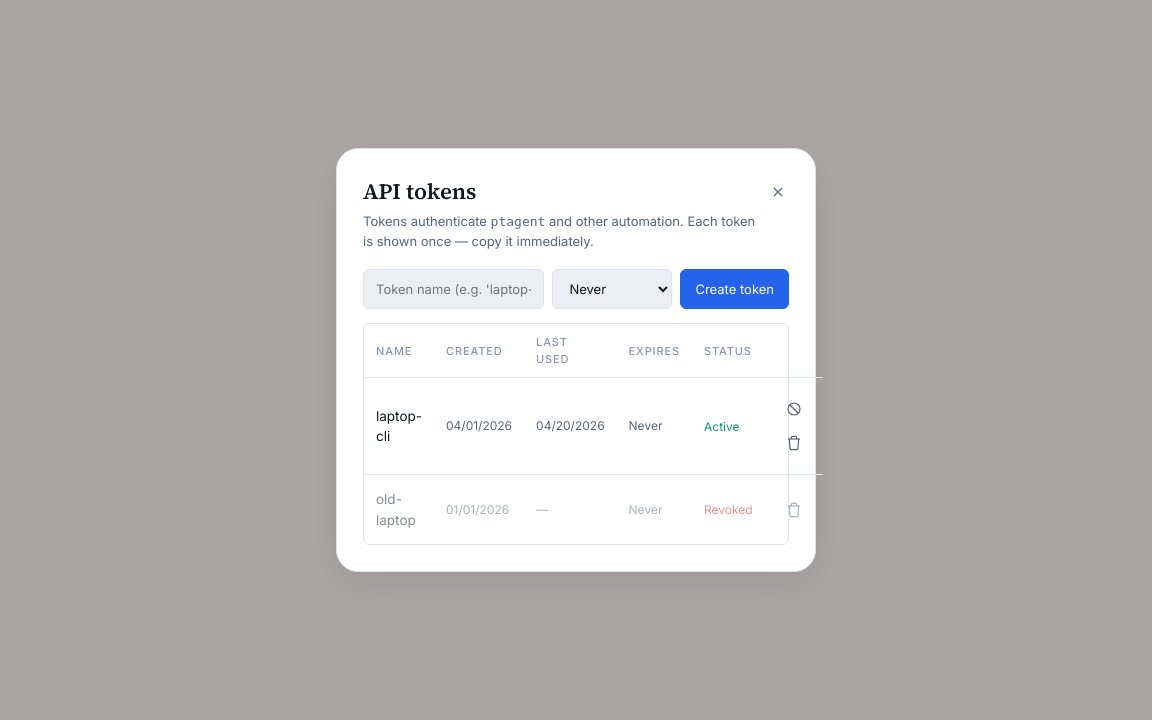
Test: TokensModal — create › shows the just-created token panel and reloads the list on submit
In the field with placeholder "Token name (e.g. 'laptop-cli')": (454, 289) [363, 269, 544, 309], type "ci-bot"
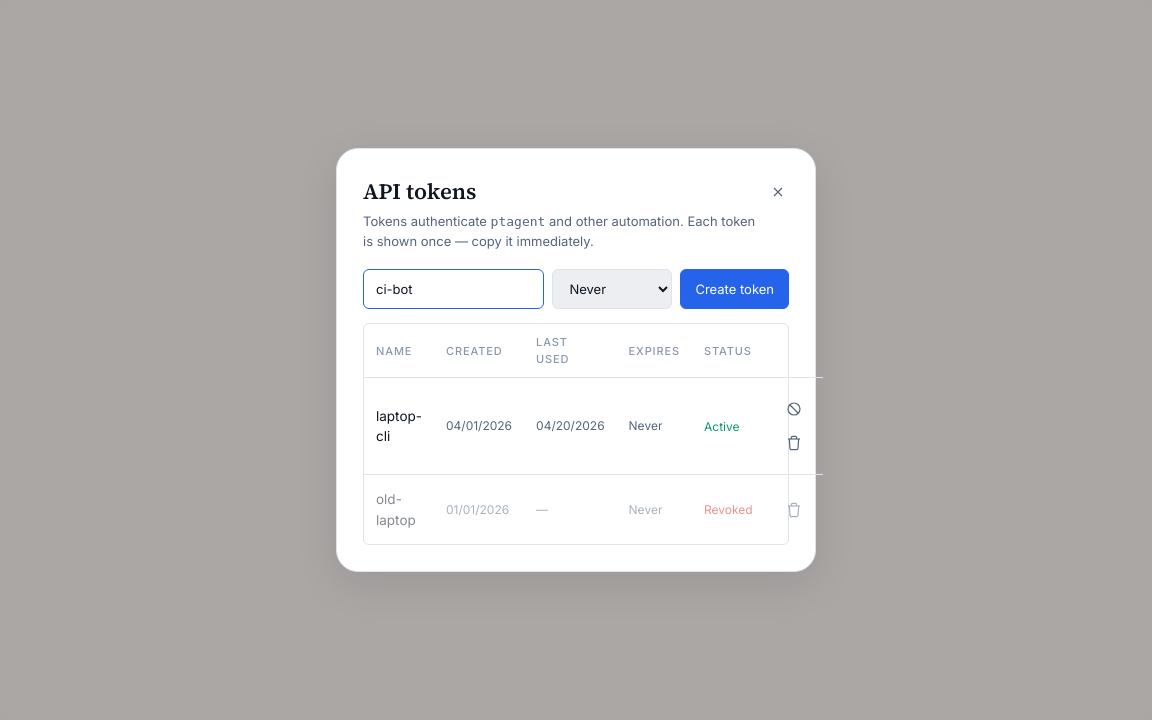
Click the button "Create token": (735, 289) [680, 269, 789, 309]
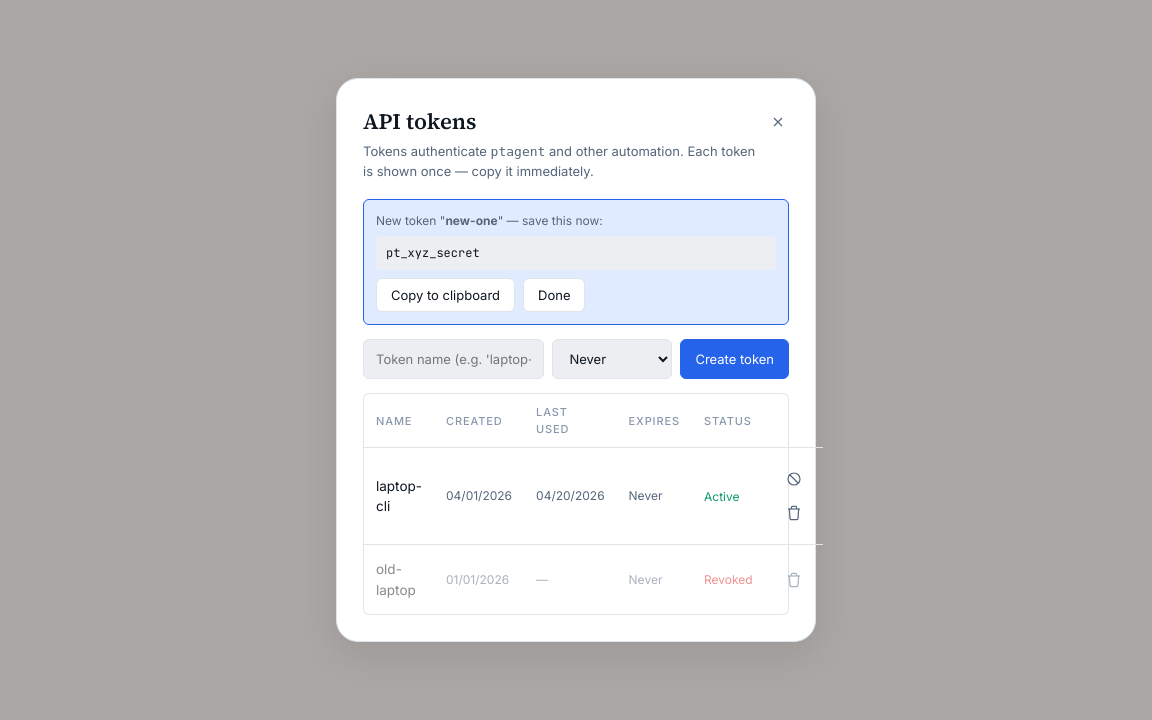
Check: the text "pt_xyz_secret" is shown, box [376, 236, 776, 270]
Check: the field with placeholder "Token name (e.g. 'laptop-cli')" is empty, box [363, 339, 544, 379]
